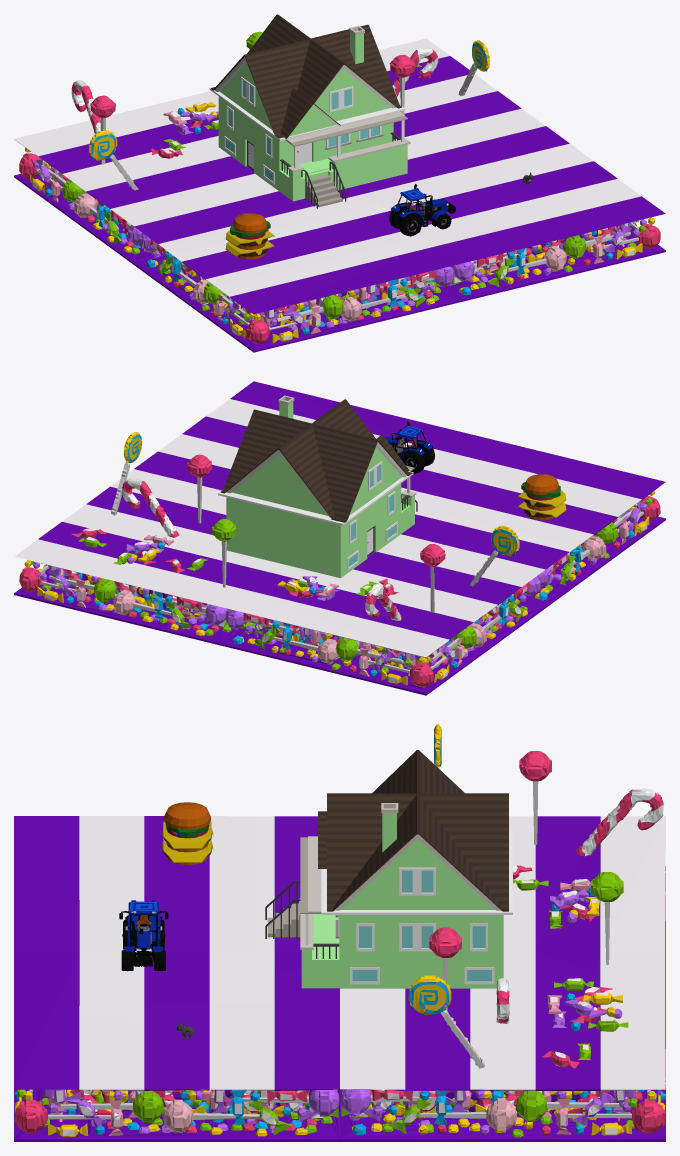
3 views of the same model, one above another, from view 1: azimuth 30°, elevation 25°; view 2: azimuth 150°, elevation 25°; view 3: azimuth 270°, elevation 25° (orthographic). The views are drawn at different scales.
Parts seen in each view (by area): view 1: TERRAIN_CANDY, Cube.274, VEHICLES_TRACTOR, OBJRANDOM_HAMBURGER; view 2: TERRAIN_CANDY, Cube.274, OBJRANDOM_HAMBURGER, VEHICLES_TRACTOR; view 3: TERRAIN_CANDY, Cube.274, VEHICLES_TRACTOR, OBJRANDOM_HAMBURGER.
Boxes of the visible parts, bbox=[...] form: TERRAIN_CANDY: bbox=[14, 31, 665, 352]; Cube.274: bbox=[209, 14, 410, 208]; VEHICLES_TRACTOR: bbox=[389, 184, 455, 236]; OBJRANDOM_HAMBURGER: bbox=[225, 213, 274, 259]; TERRAIN_CANDY: bbox=[14, 381, 665, 695]; Cube.274: bbox=[218, 395, 417, 578]; OBJRANDOM_HAMBURGER: bbox=[517, 474, 566, 520]; VEHICLES_TRACTOR: bbox=[384, 421, 434, 473]; TERRAIN_CANDY: bbox=[14, 724, 665, 1141]; Cube.274: bbox=[265, 750, 512, 988]; VEHICLES_TRACTOR: bbox=[119, 900, 168, 971]; OBJRANDOM_HAMBURGER: bbox=[162, 802, 213, 864].
Size of the model in its own units: 4059 by 1607 by 4000.
31 materials, 3 textured.
